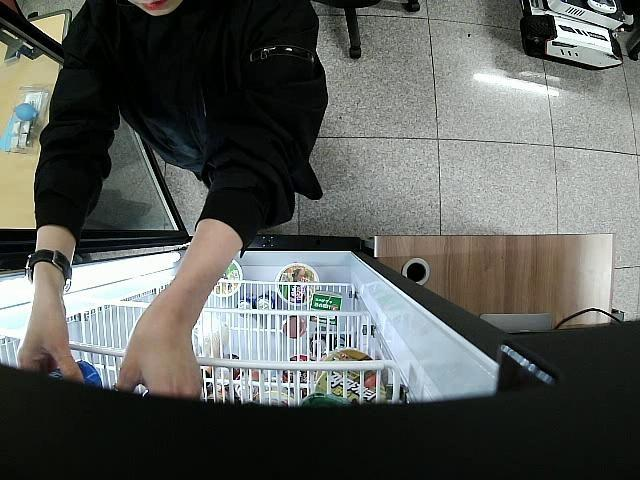15_letsbe: (42, 358, 105, 393)
